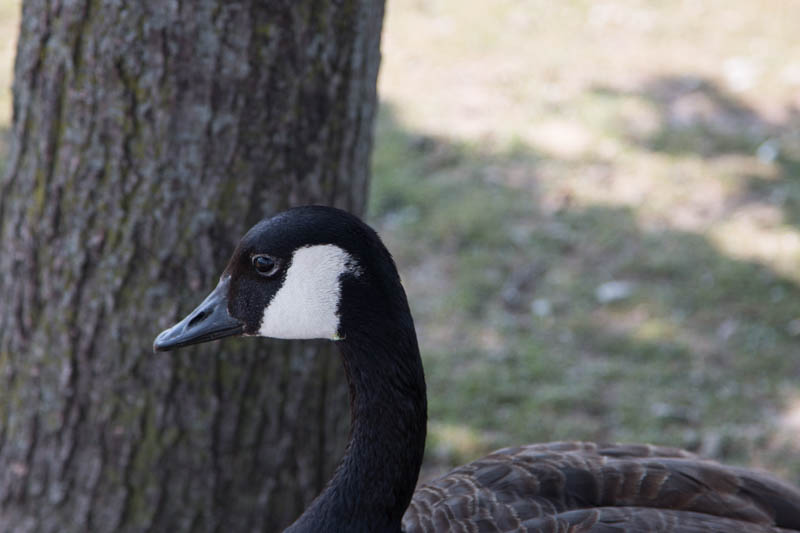goose-head: (153, 206, 420, 356)
